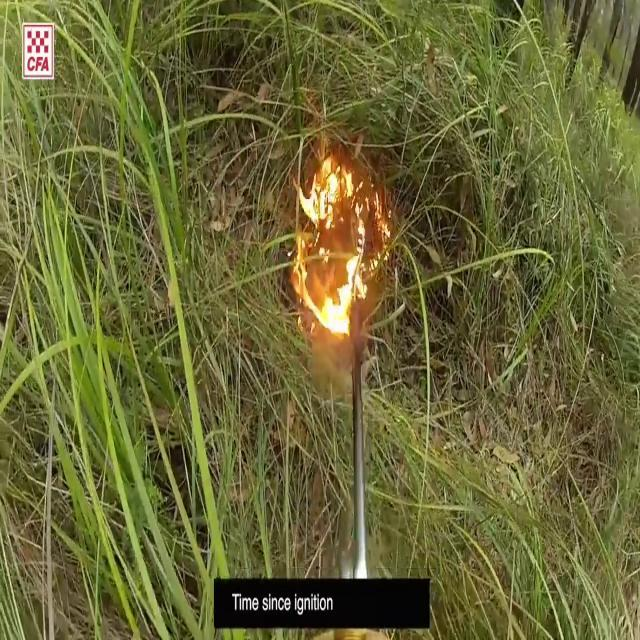Fire: (288, 142, 387, 336)
